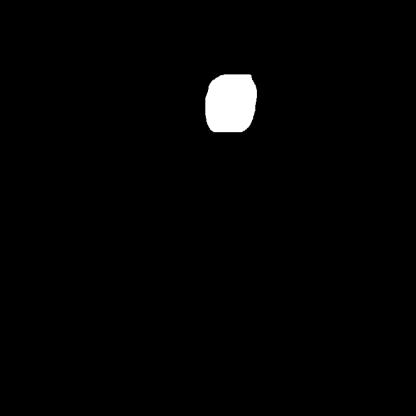benign: (204, 67, 269, 145)
